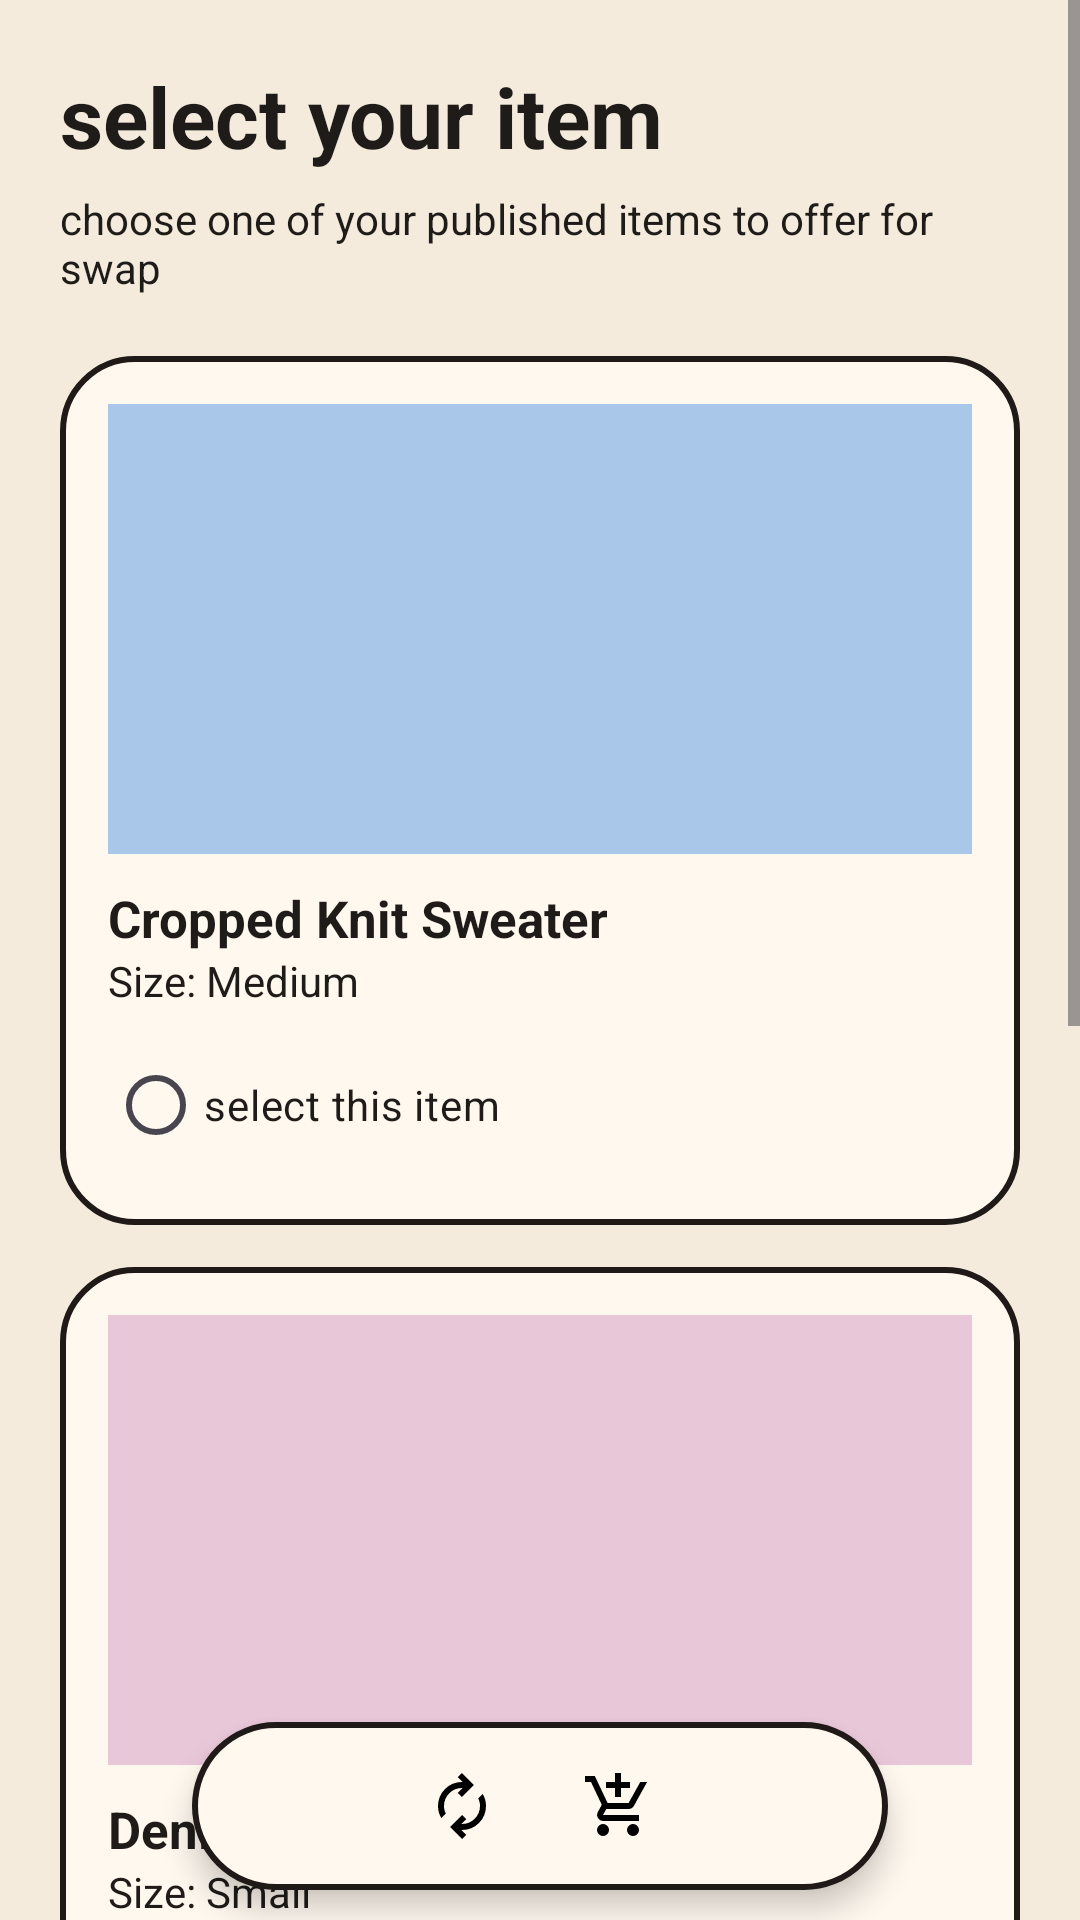

Named icons in this screenshot (1080px x 1920px) and their bounding boxes, (x1, y1, x2, y2):
Cart: (585, 1773, 647, 1836)
Swap: (438, 1773, 486, 1839)
